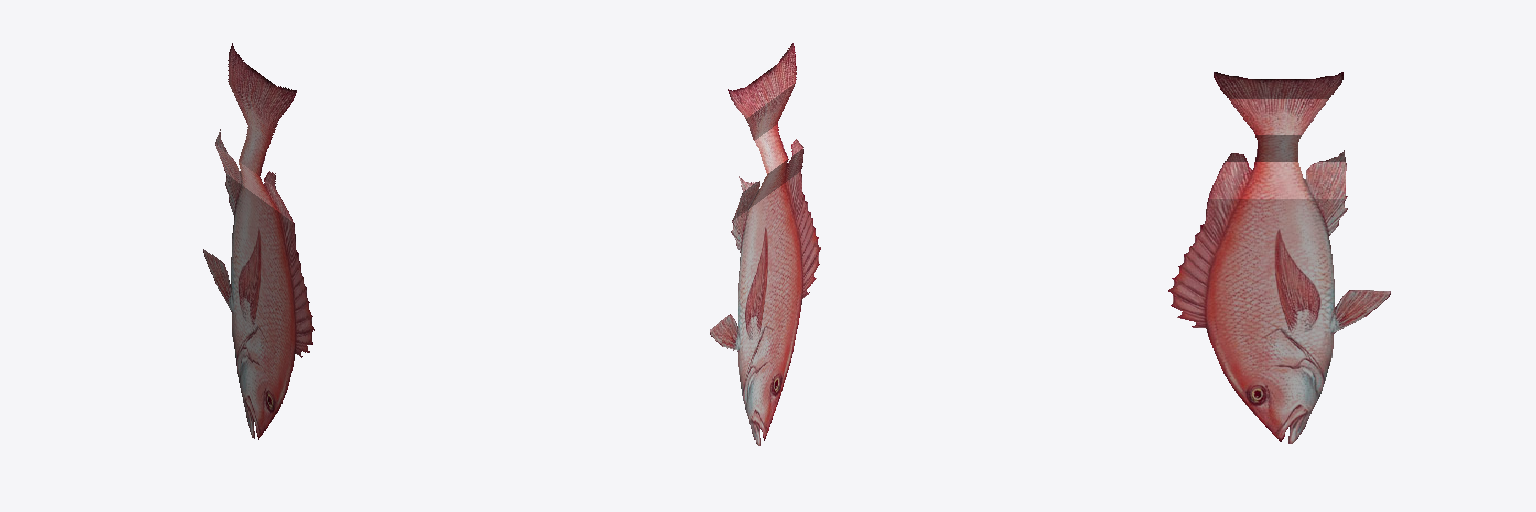
The picture shows the model from 3 angles: view 1: azimuth 30°, elevation 25°; view 2: azimuth 150°, elevation 25°; view 3: azimuth 270°, elevation 25°; orthographic projection.
Bounding box in the file's own units: 0.0886 × 1.97 × 1.06.
1 materials, 1 textured.